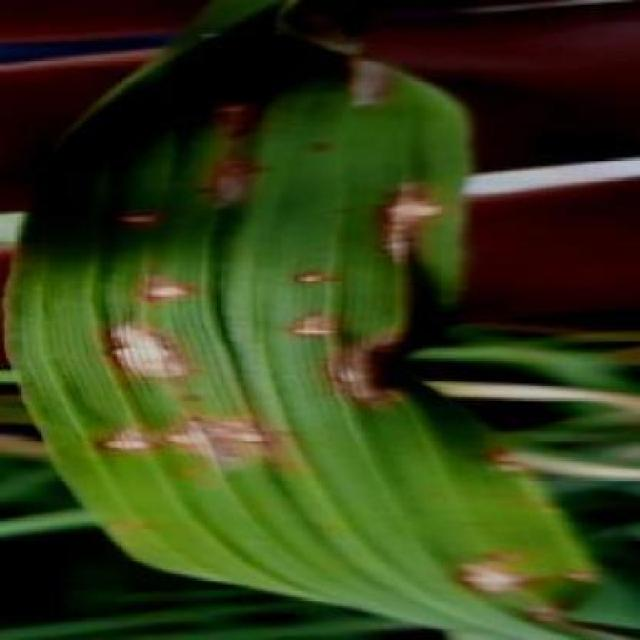Bacterial_Leaf_Blight: (287, 318, 435, 424), (159, 396, 312, 486), (299, 15, 410, 126), (452, 524, 577, 616), (194, 138, 294, 248), (87, 307, 190, 396), (372, 164, 450, 270), (458, 422, 562, 495), (262, 227, 358, 304), (68, 395, 155, 473), (98, 489, 179, 557), (104, 256, 205, 310), (207, 78, 281, 151), (86, 184, 159, 250), (0, 257, 32, 380)
